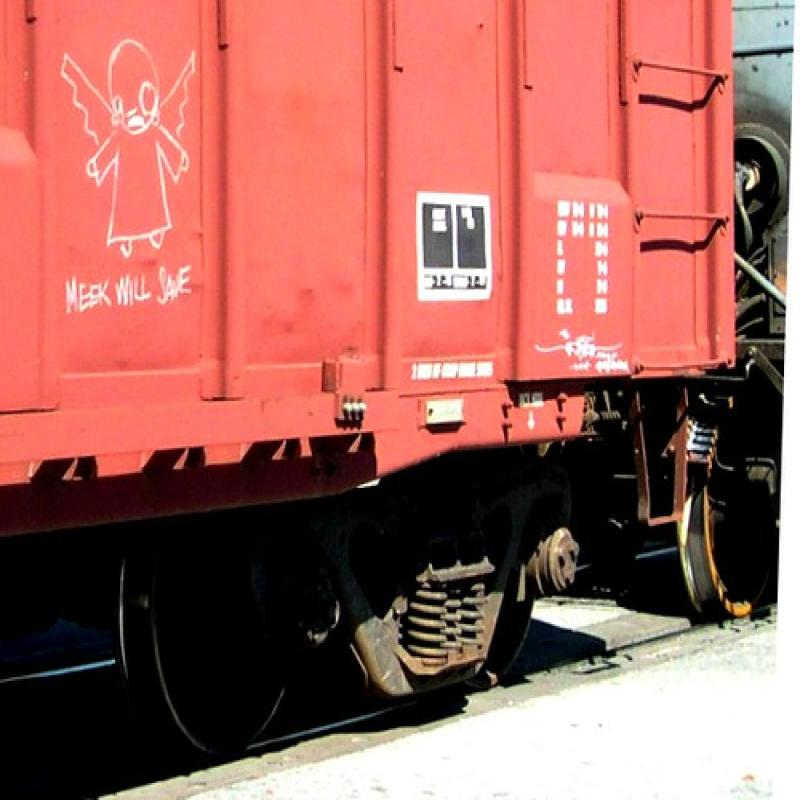train: (2, 2, 800, 776)
